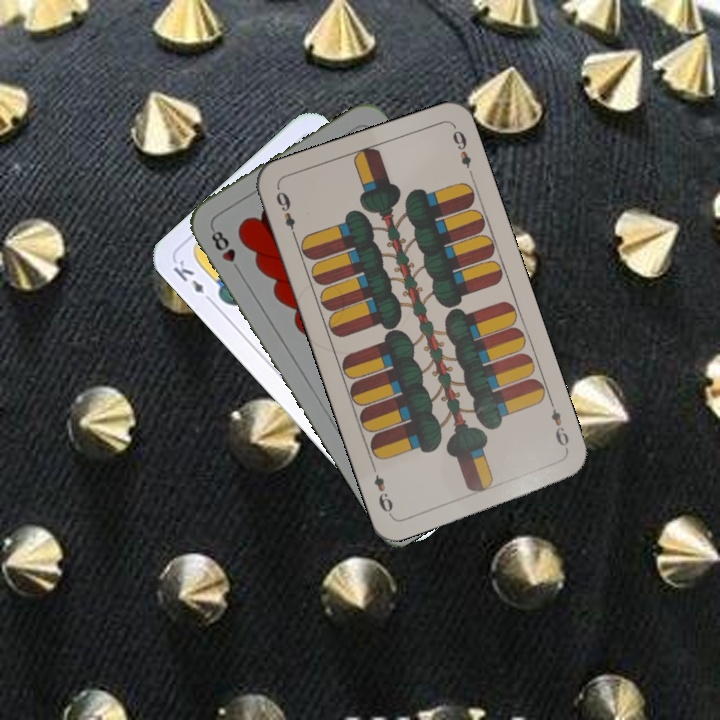E9: (545, 398, 572, 456), (272, 187, 300, 242)
EK: (169, 256, 217, 306)
H8: (207, 223, 244, 276)
